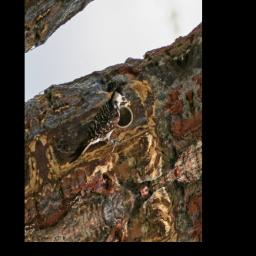Woodpecker: (60, 82, 136, 176)
